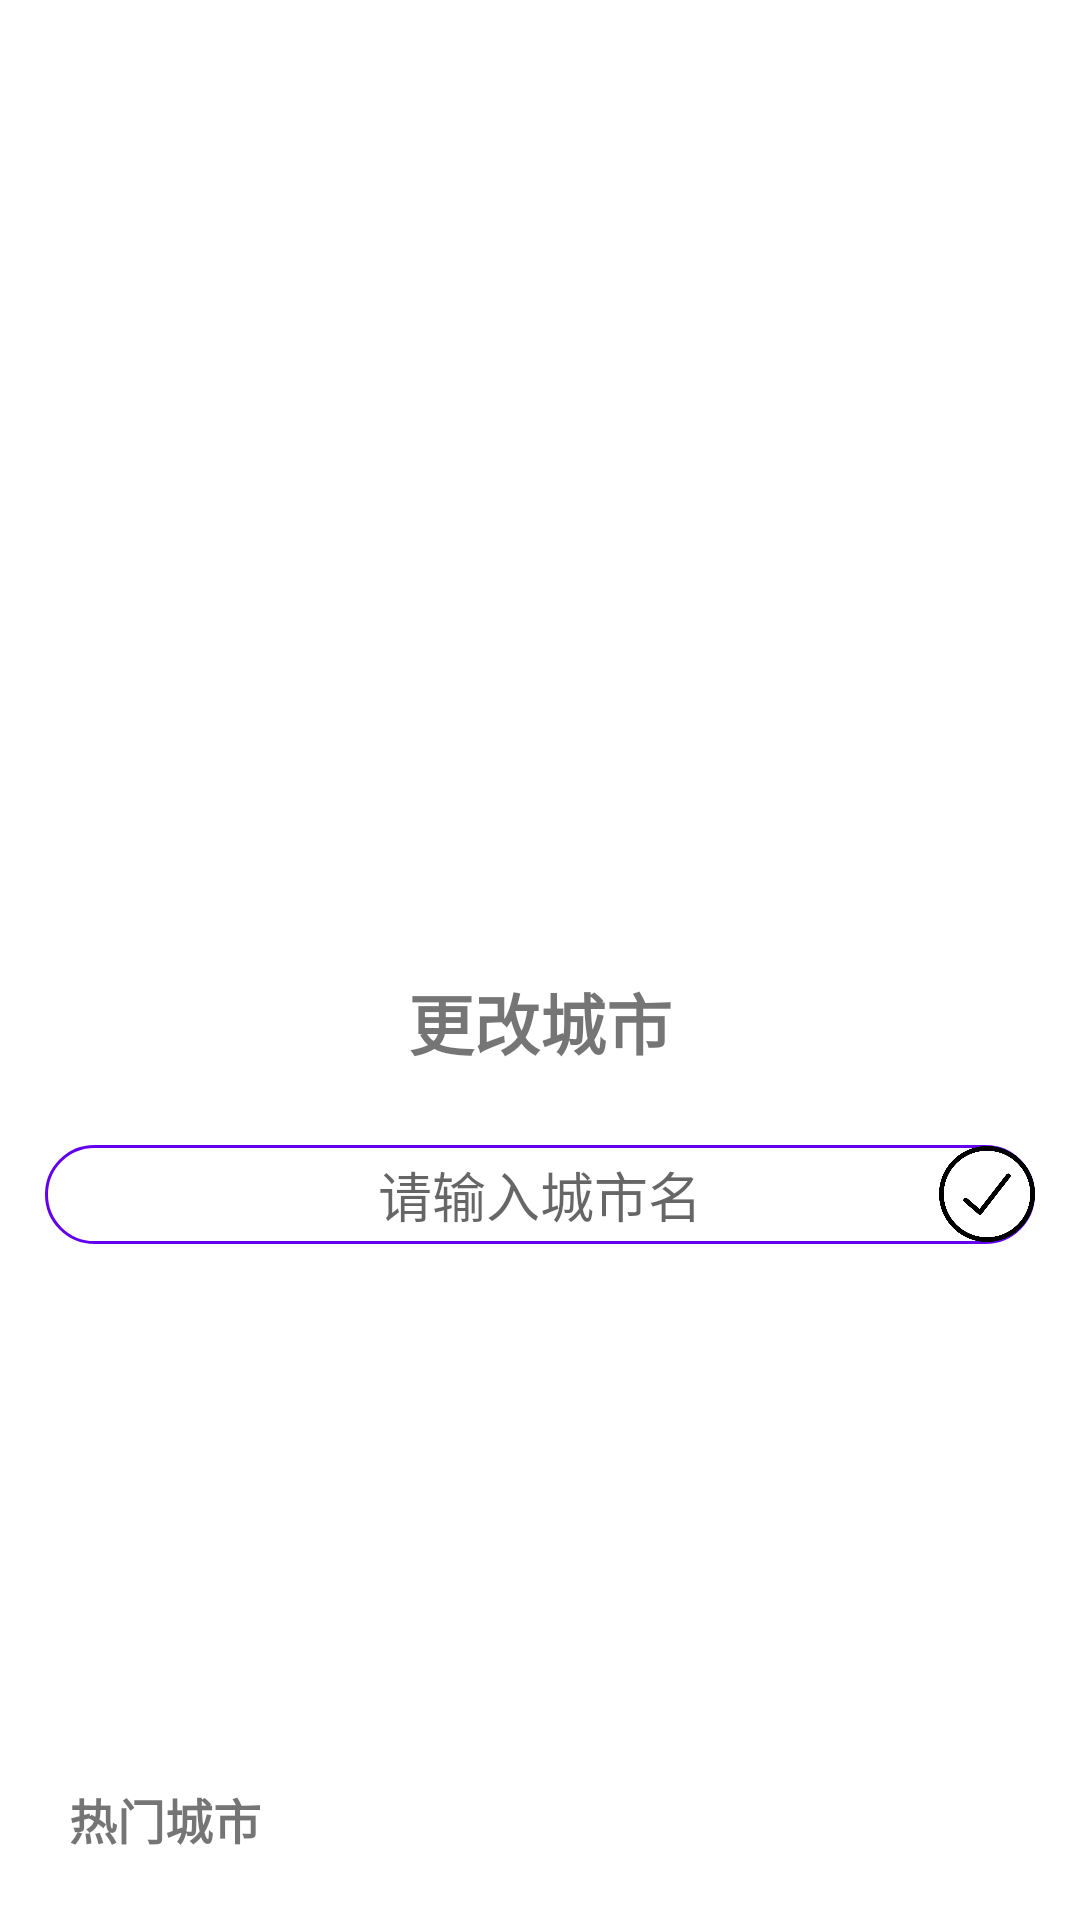

Screen size 1080*1920. Icon name, then its box in pixels as (x1, y1, x2, y2):
accept correct: (939, 1146, 1035, 1242)
